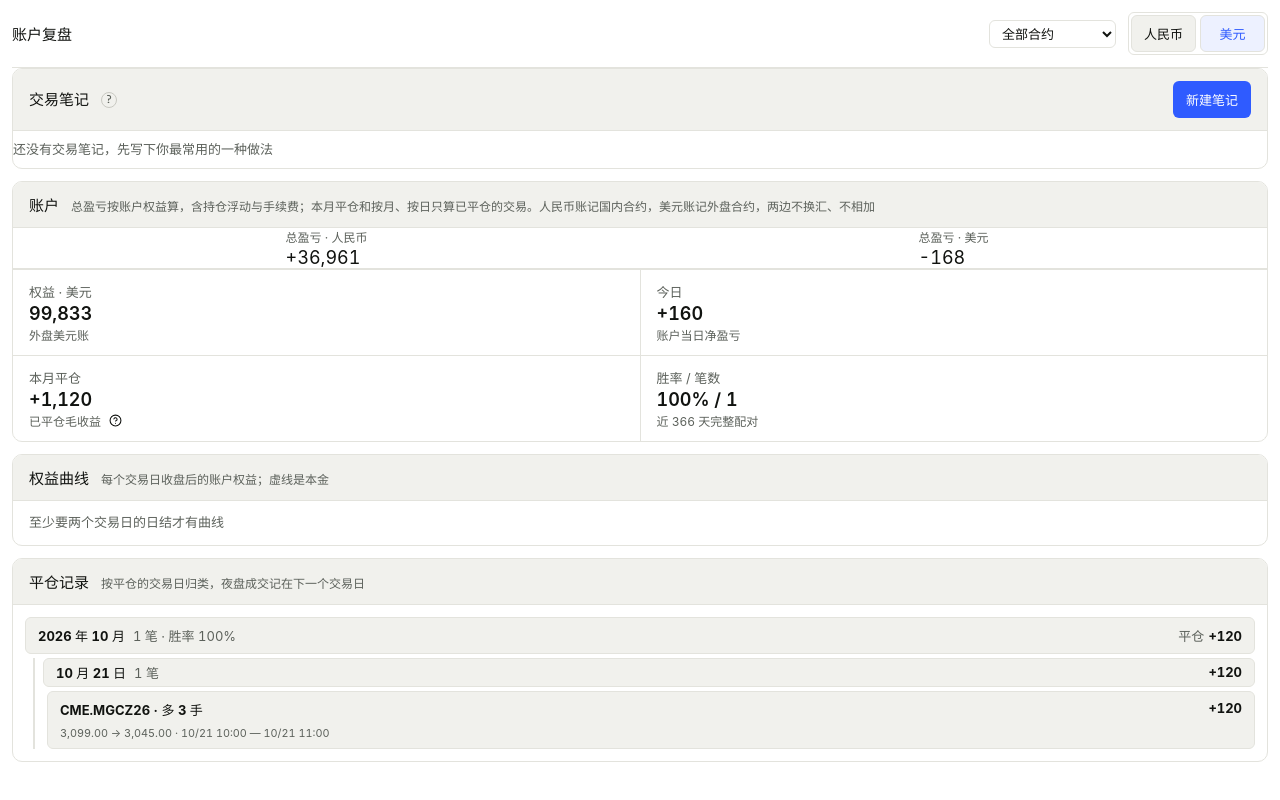
Test: 本站模拟合成一个账户: 人民币 / 美元 side by side, the panel follows the chosen ledger, 账户明细 shows both (2026-10-21)
The image size is (1280, 800).
Expected: the button with aria-label "总盈亏 · 人民币，查看账户明细" shows "+36,961", [13,228,640,268]
Expected: the text "权益 · 美元" is shown, [29,284,92,300]
Step 1. Click the button with aria-label "总盈亏 · 美元，查看账户明细" → (954, 248), box [640,228,1267,268]
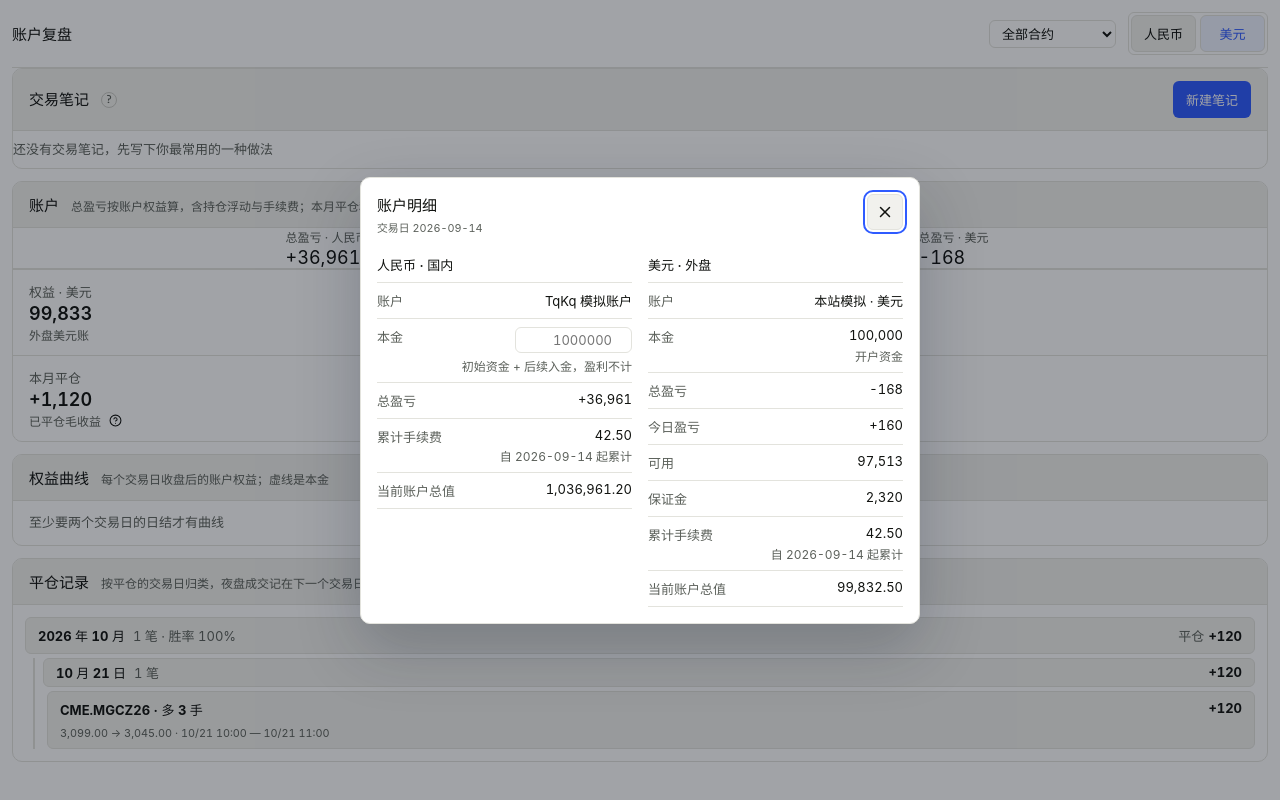
Result: the element named "人民币账" is shown at [377,246,632,606]
Result: the text "100,000" is shown at [849,326,903,342]
Result: the text "97,513" is shown at [857,452,903,472]
